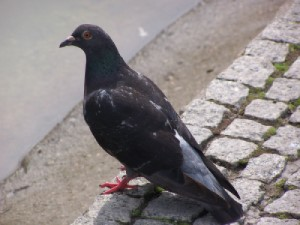pigeon: (57, 22, 244, 224)
